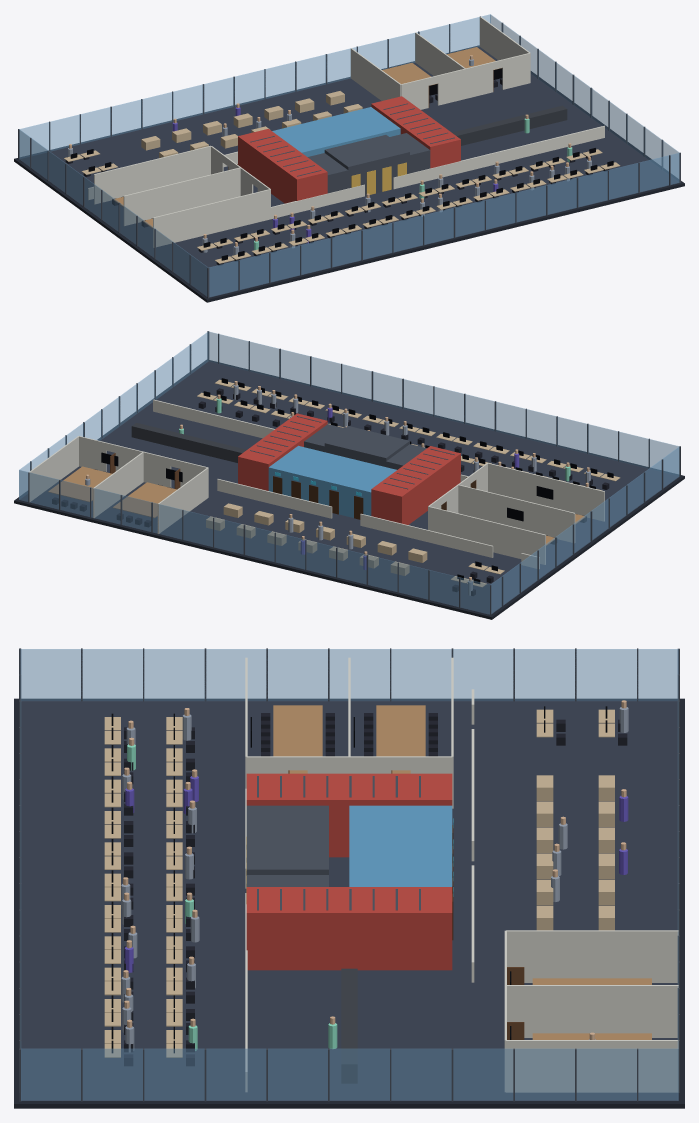
3 renders of one model, top to bottom at view 1: azimuth 30°, elevation 25°; view 2: azimuth 150°, elevation 25°; view 3: azimuth 270°, elevation 25°, orthographic. The views are drawn at different scales.
Parts seen in each view (by area): view 1: L15_floor_carpet, L15_glass, L15_wall, L15_core, L15_stair, L15_desk, L15_slab, L15_wash, L15_screen, L15_counter, L15_table, L15_chair (+3 smaller); view 2: L15_floor_carpet, L15_glass, L15_wall, L15_stair, L15_core, L15_desk, L15_slab, L15_wash, L15_table, L15_screen, L15_chair, L15_counter (+3 smaller); view 3: L15_floor_carpet, L15_glass, L15_wall, L15_stair, L15_desk, L15_core, L15_slab, L15_wash, L15_table, L15_chair, L15_role_trader, L15_counter (+5 smaller).
Boxes of the visible parts, x1,y1,x2,y2 form: L15_floor_carpet: [19, 46, 679, 297]; L15_glass: [19, 14, 679, 296]; L15_wall: [88, 17, 604, 247]; L15_core: [18, 16, 680, 298]; L15_stair: [238, 96, 460, 203]; L15_desk: [64, 91, 620, 263]; L15_slab: [14, 45, 684, 302]; L15_wash: [272, 107, 400, 156]; L15_screen: [70, 68, 613, 260]; L15_counter: [452, 105, 567, 145]; L15_table: [113, 47, 501, 228]; L15_chair: [65, 49, 609, 265]; L15_floor_carpet: [19, 361, 679, 614]; L15_glass: [19, 331, 679, 614]; L15_wall: [28, 399, 604, 568]; L15_stair: [238, 413, 460, 524]; L15_core: [28, 331, 680, 615]; L15_desk: [197, 379, 620, 587]; L15_slab: [14, 360, 684, 619]; L15_wash: [268, 445, 396, 517]; L15_table: [48, 466, 585, 545]; L15_screen: [101, 378, 613, 583]; L15_chair: [52, 388, 609, 595]; L15_counter: [131, 423, 246, 462]; L15_floor_carpet: [21, 700, 678, 1101]; L15_glass: [20, 649, 678, 1100]; L15_wall: [245, 657, 678, 1092]; L15_stair: [246, 773, 452, 970]; L15_desk: [104, 709, 614, 1057]; L15_core: [19, 648, 679, 1101]; L15_slab: [14, 698, 684, 1108]; L15_wash: [349, 805, 452, 886]; L15_table: [273, 705, 651, 1039]; L15_chair: [124, 713, 627, 1066]; L15_role_trader: [121, 707, 628, 1052]; L15_counter: [341, 968, 357, 1083].
Bounding box in the file's own units: 46.6 × 3.37 × 32.6.
